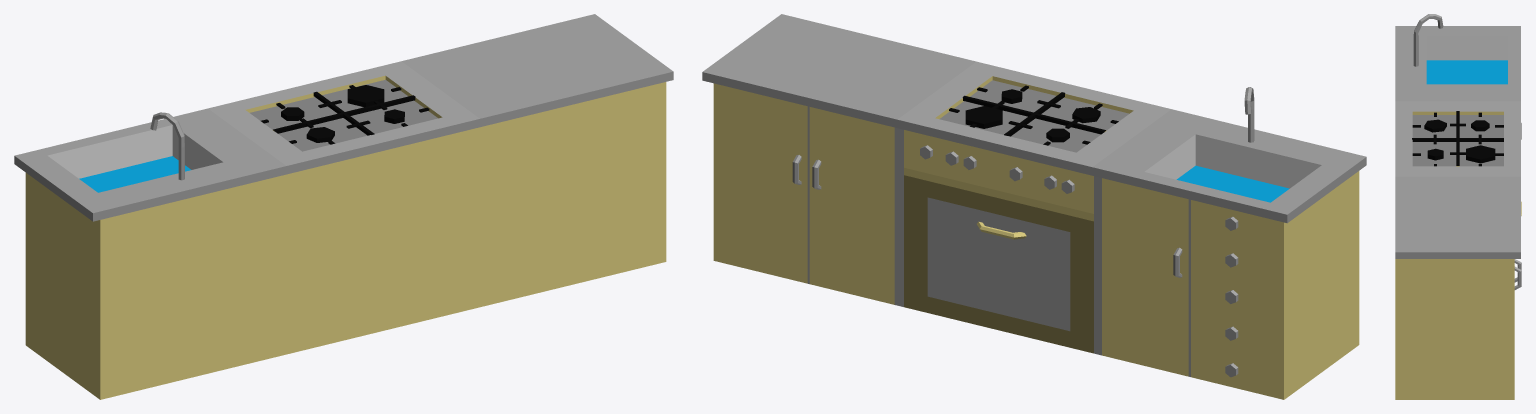
Rendered from Sink and counter.fbx.
3 renders of one model, left to right at view 1: azimuth 30°, elevation 25°; view 2: azimuth 150°, elevation 25°; view 3: azimuth 270°, elevation 25°, orthographic. The views are drawn at different scales.
Parts seen in each view (by area): view 1: Sink.1; view 2: Sink.1; view 3: Sink.1.
Boxes of the visible parts, x1,y1,x2,y2 form: Sink.1: (14,14,673,399); Sink.1: (702,14,1366,399); Sink.1: (1395,14,1521,399).
Size of the model in its own units: 969 by 398 by 228.
